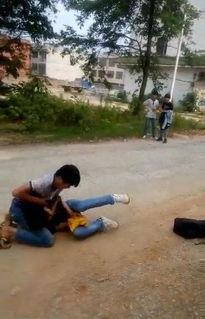Fall-Detected: (50, 182, 130, 243)
